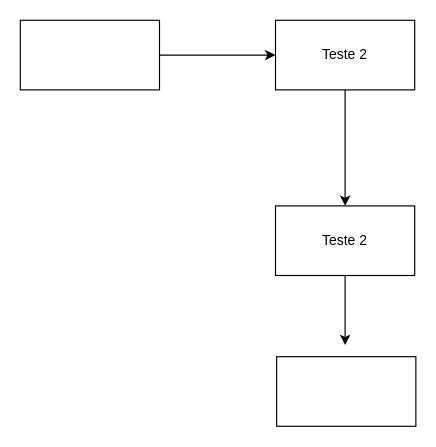
Some shapes in this 436 by 447 pixel diagram are drawn without their labels. The centre of each missing label's shape, as x and y in pixels:
Teste: [89,54]
teste 3: [346,391]
